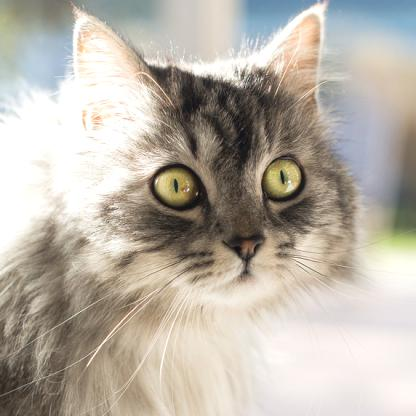cat: (1, 6, 359, 415)
